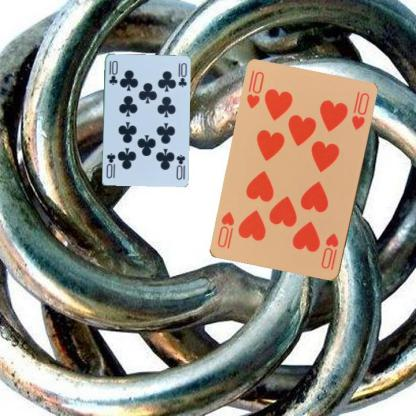10c: (106, 58, 119, 86), (174, 152, 186, 180)
10h: (318, 231, 340, 272), (244, 69, 266, 110)
